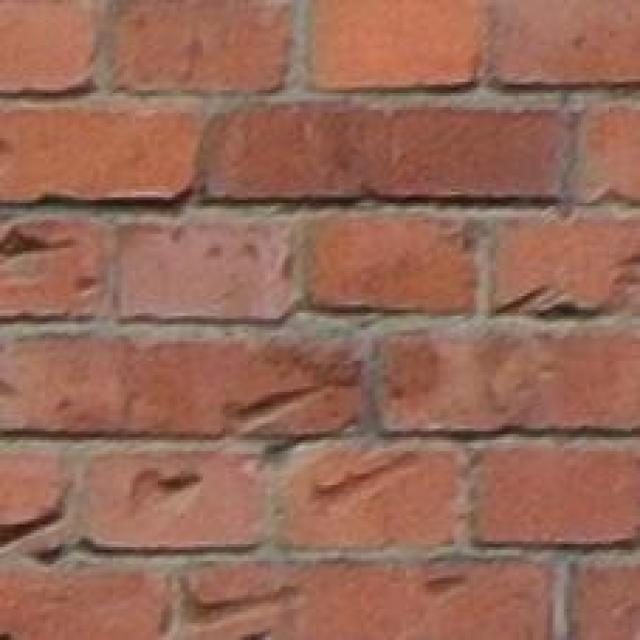Crack: (202, 311, 447, 537)
